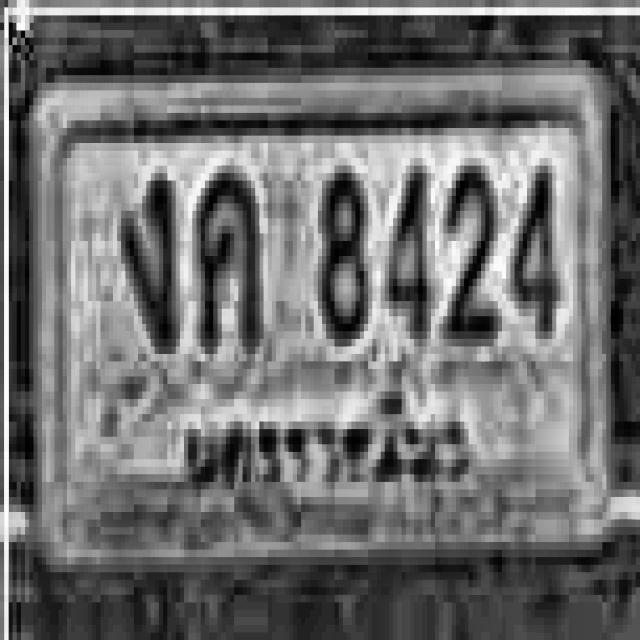license-plate: (26, 64, 618, 570)
